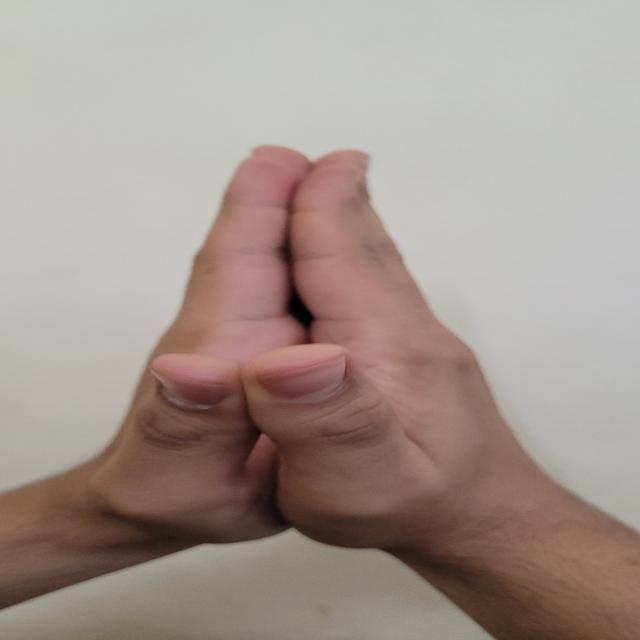Thank You: (115, 120, 519, 567)
